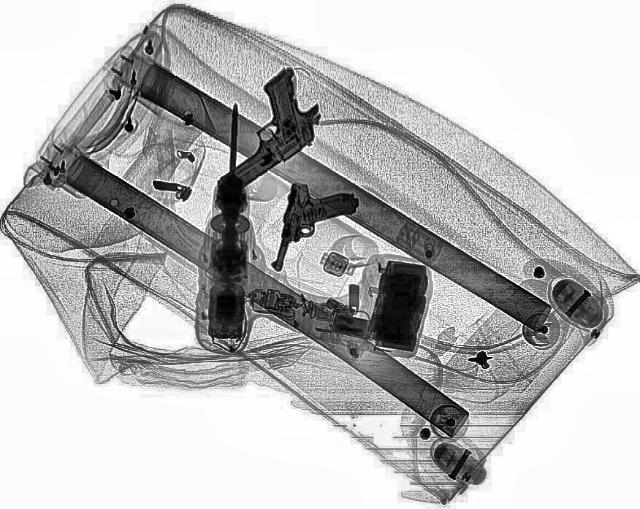Gun: (176, 65, 352, 191), (270, 180, 362, 280)
